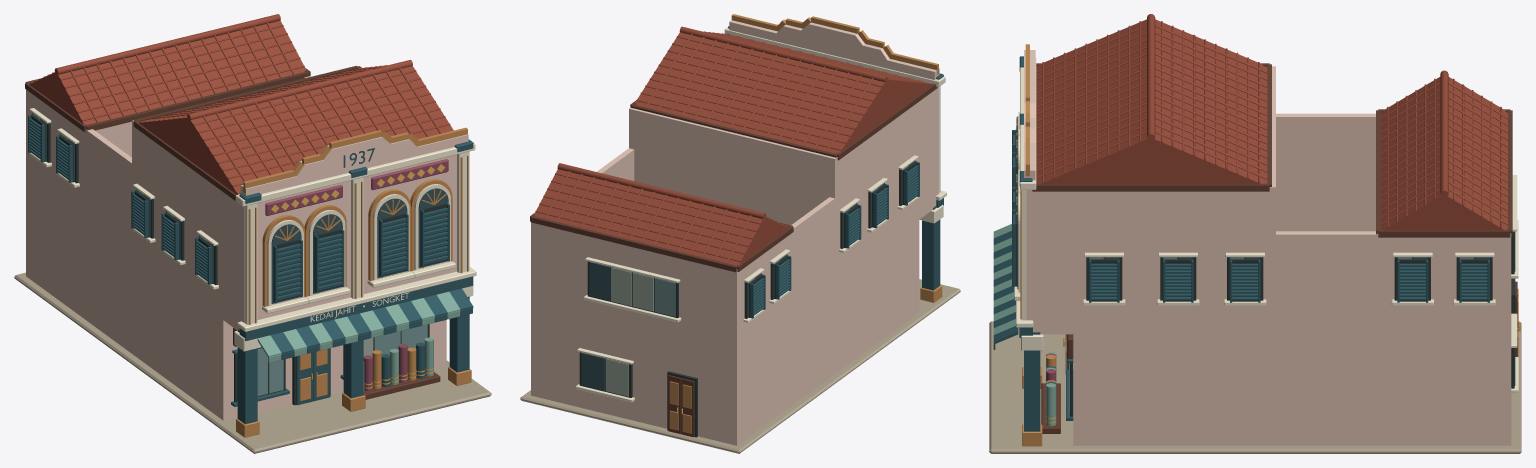
The picture shows the model from 3 angles, left to right: view 1: azimuth 30°, elevation 25°; view 2: azimuth 150°, elevation 25°; view 3: azimuth 270°, elevation 25°; orthographic projection. The views are drawn at different scales.
Parts seen in each view (by area): view 1: Party walls and airwell, Roof covering, Pilasters and crown, Louvred shutters, Woven sunblind, Casements and sills, Eave fascia, Cloth merchant display, Entrance joinery, Cast lettering; view 2: Party walls and airwell, Roof covering, Pilasters and crown, Casements and sills, Eave fascia, Louvred shutters, Entrance joinery; view 3: Party walls and airwell, Roof covering, Louvred shutters, Pilasters and crown, Casements and sills, Eave fascia, Woven sunblind, Cloth merchant display, Entrance joinery.
Boxes of the visible parts, x1,y1,x2,y2 form: Party walls and airwell: (14, 76, 491, 453); Roof covering: (29, 14, 453, 194); Pilasters and crown: (234, 127, 476, 437); Louvred shutters: (28, 114, 449, 303); Woven sunblind: (257, 288, 473, 362); Casements and sills: (28, 108, 429, 406); Eave fascia: (25, 65, 361, 200); Cloth merchant display: (233, 327, 440, 399); Entrance joinery: (292, 348, 330, 405); Cast lettering: (310, 148, 409, 321); Party walls and airwell: (520, 87, 960, 453); Roof covering: (534, 26, 932, 265); Pilasters and crown: (724, 14, 946, 302); Casements and sills: (575, 155, 919, 402); Eave fascia: (530, 33, 937, 272); Louvred shutters: (748, 161, 919, 318); Entrance joinery: (667, 371, 697, 437); Party walls and airwell: (989, 66, 1521, 453); Roof covering: (1036, 14, 1508, 230); Louvred shutters: (1012, 129, 1489, 302); Pilasters and crown: (1014, 44, 1043, 446); Casements and sills: (1066, 175, 1518, 420); Eave fascia: (1032, 63, 1512, 237); Woven sunblind: (993, 224, 1018, 349); Cloth merchant display: (1041, 334, 1073, 433); Entrance joinery: (1063, 278, 1520, 374).
Bounding box in the file's own units: 8.9 × 10.15 × 15.5.
